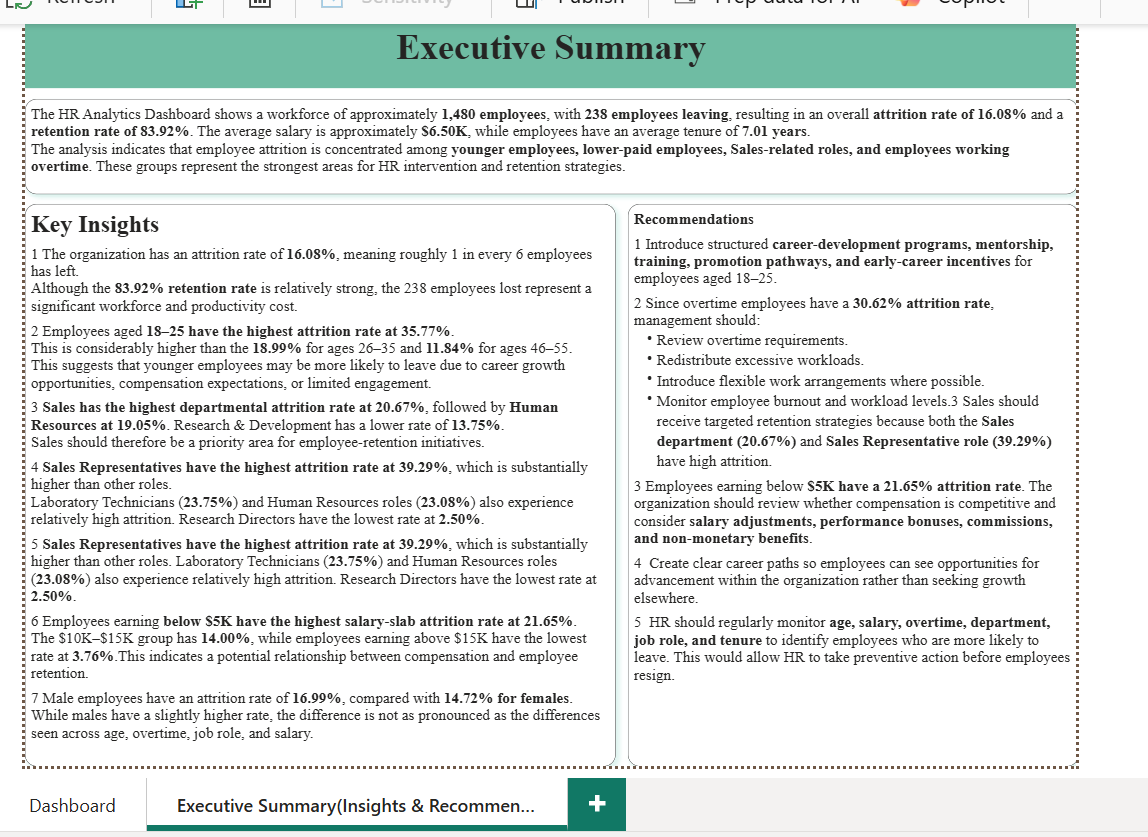

The dashboard page shown, as its layout file describes it:
{"tool":"powerbi","page":{"name":"Executive Summary(Insights & Recommendations)","canvas":[2580,1820],"ordinal":1},"visuals":[{"type":"textbox","box":[0,0,2580.9,157.2],"z":0},{"type":"textbox","box":[0,184.2,2582.7,233.3],"z":1},{"type":"textbox","box":[0,442,1448.9,1379.4],"z":2},{"type":"textbox","box":[1477.6,442,1105.1,1379.4],"z":3}]}

Visuals, with their boxes on the page's 2580x1820 design canvas (x1, y1, x2, y2). These are canvas units, not pixel positions in the 1148x837 screenshot, which may show the page scaled, cropped or inside an application window:
textbox: crop(0, 0, 2581, 157)
textbox: crop(0, 184, 2583, 418)
textbox: crop(0, 442, 1449, 1821)
textbox: crop(1478, 442, 2583, 1821)
